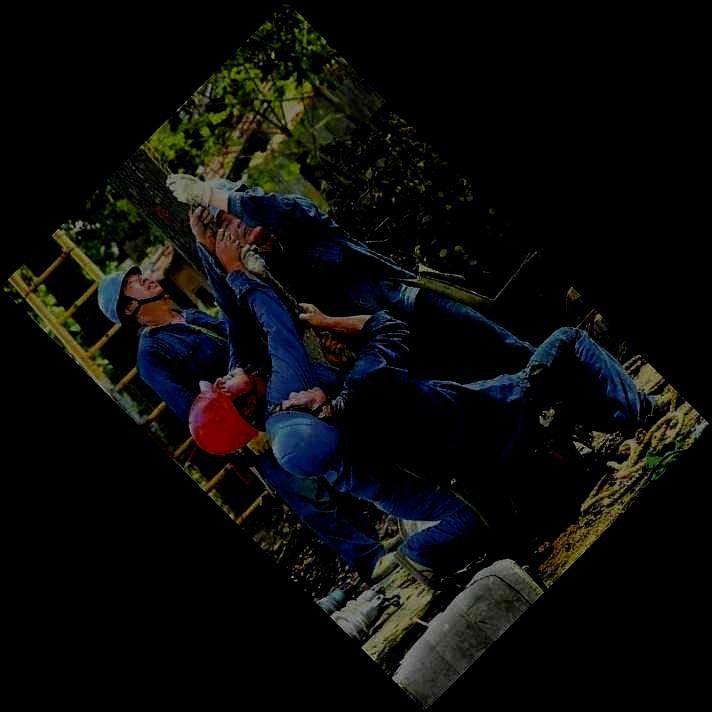helmet: (265, 386, 343, 480), (188, 366, 266, 455), (200, 178, 267, 244), (97, 264, 163, 326)
